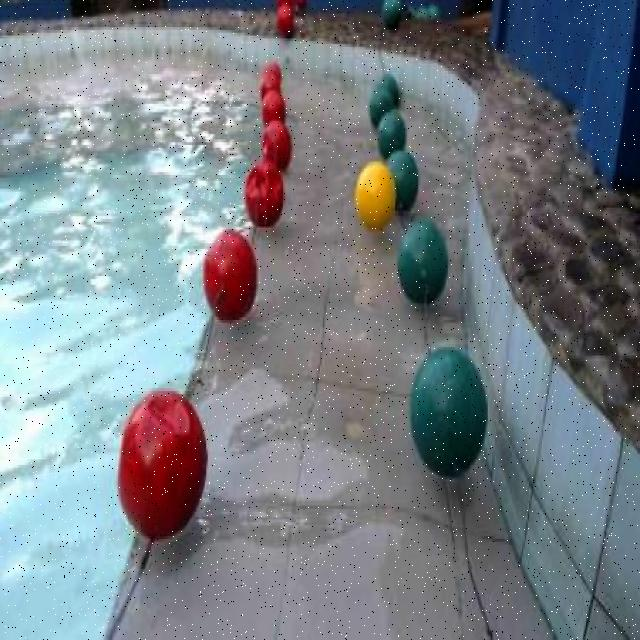buoy: (116, 390, 207, 540), (409, 346, 487, 474), (201, 229, 257, 319), (396, 217, 446, 302), (356, 157, 396, 231), (242, 160, 282, 228), (384, 147, 420, 209), (261, 120, 292, 170), (377, 111, 405, 156), (259, 86, 286, 127), (369, 87, 395, 126)
